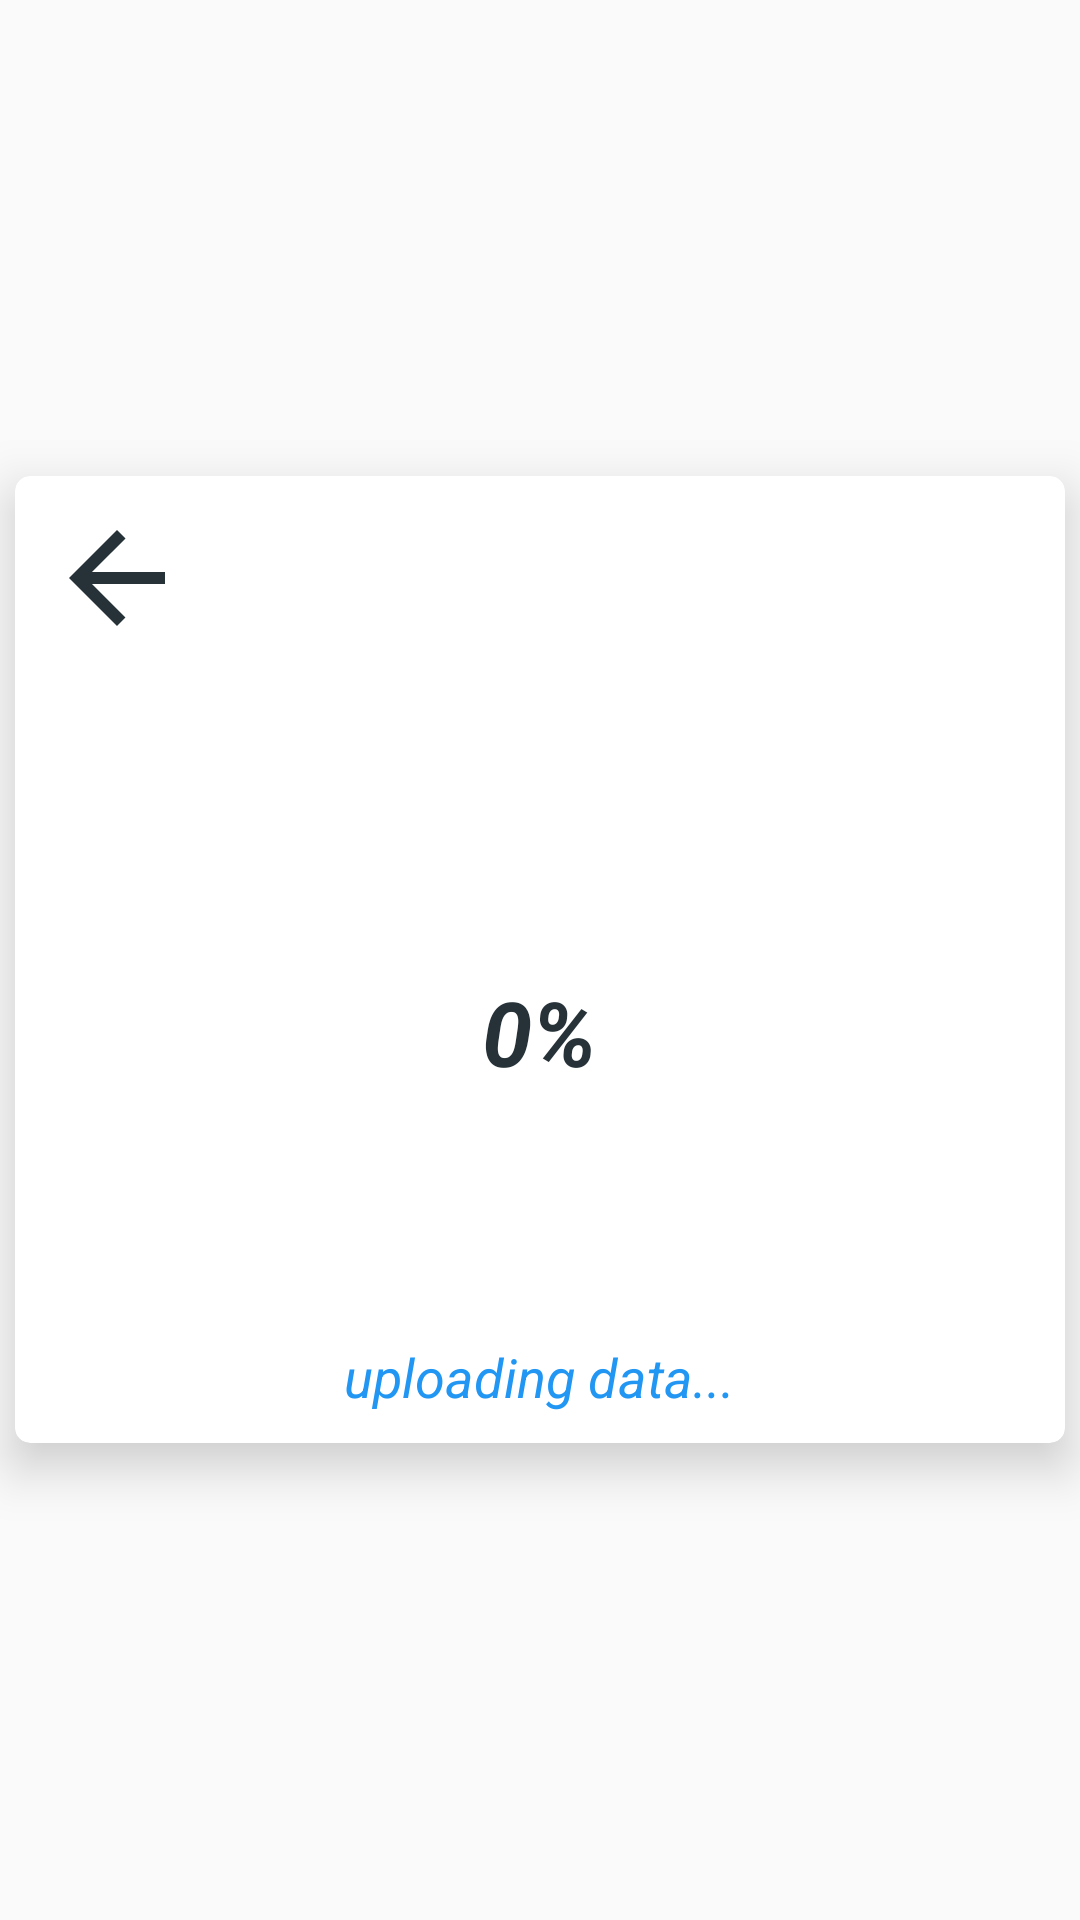

Icons on this 1080px x 1920px Android screen, each with the point to tap as [x,y]:
arrow back: [117,578]
